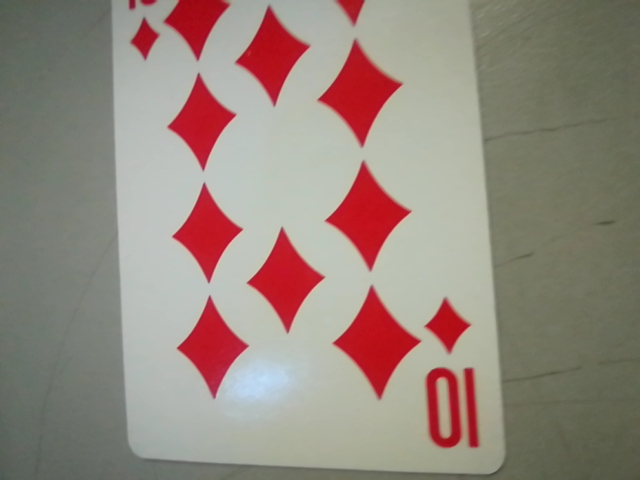fk 10: (409, 290, 496, 464)
